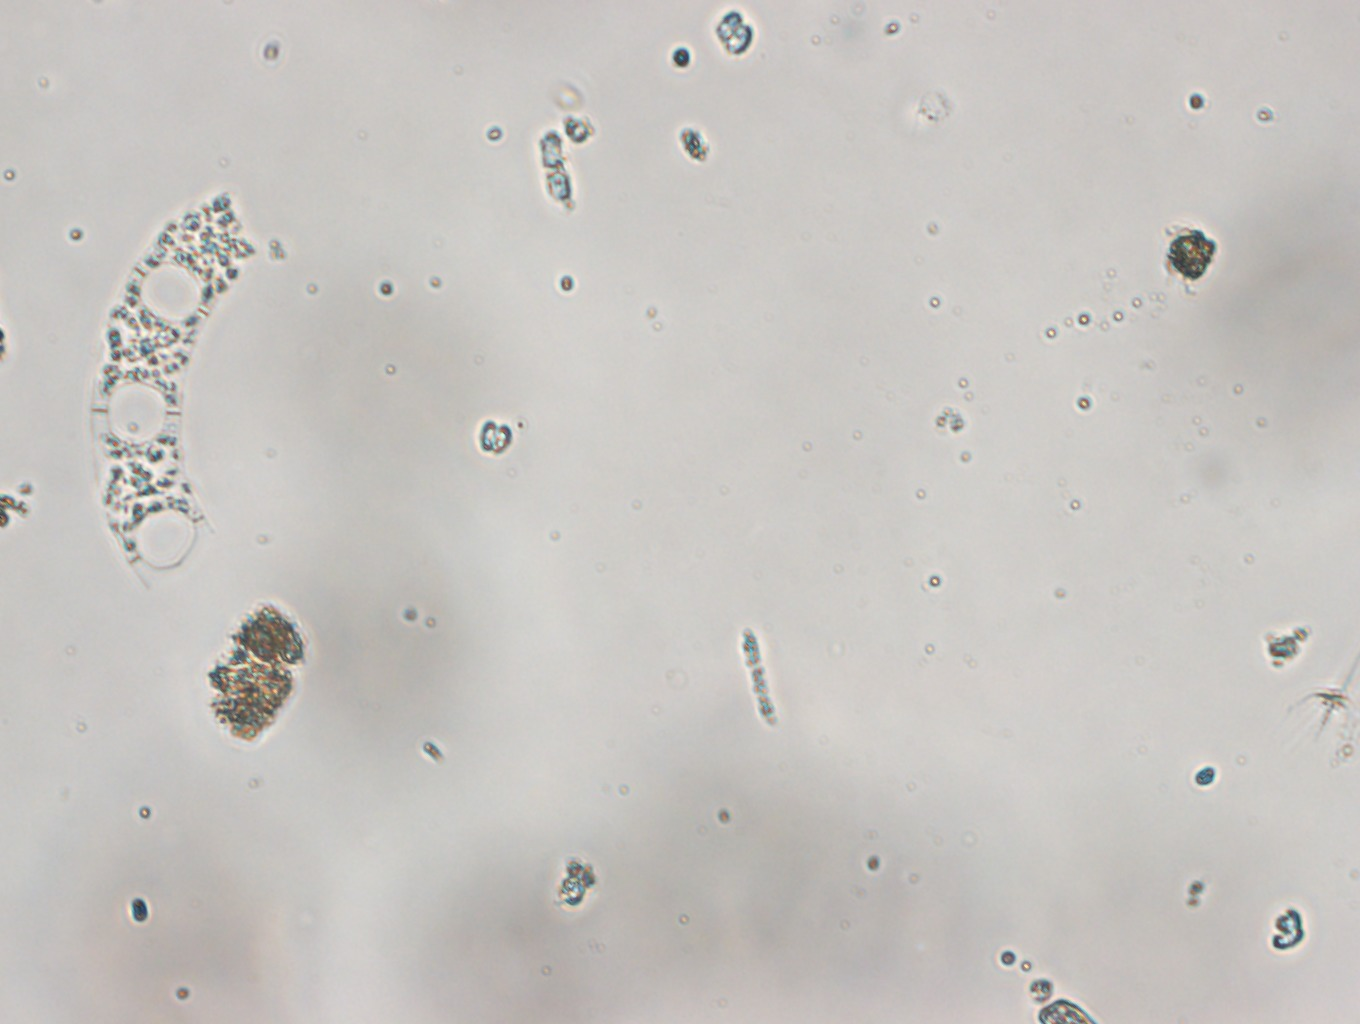eucampia: (83, 191, 247, 591)
